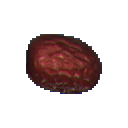gd: (18, 24, 114, 112)
